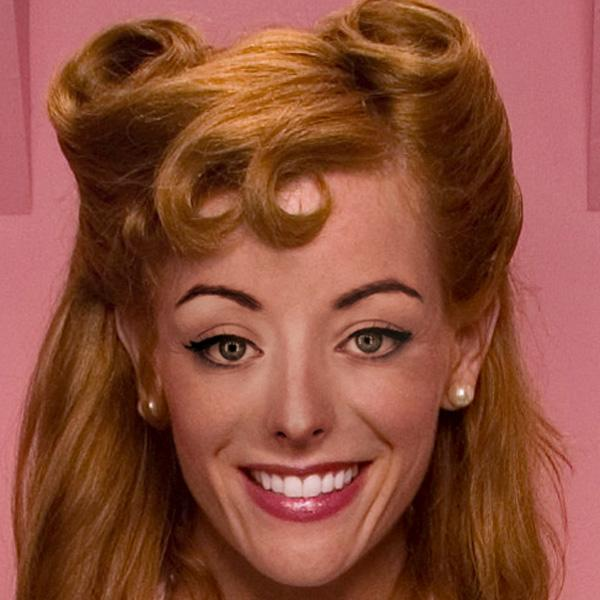Eyes: (327, 313, 421, 375), (181, 318, 271, 376)
